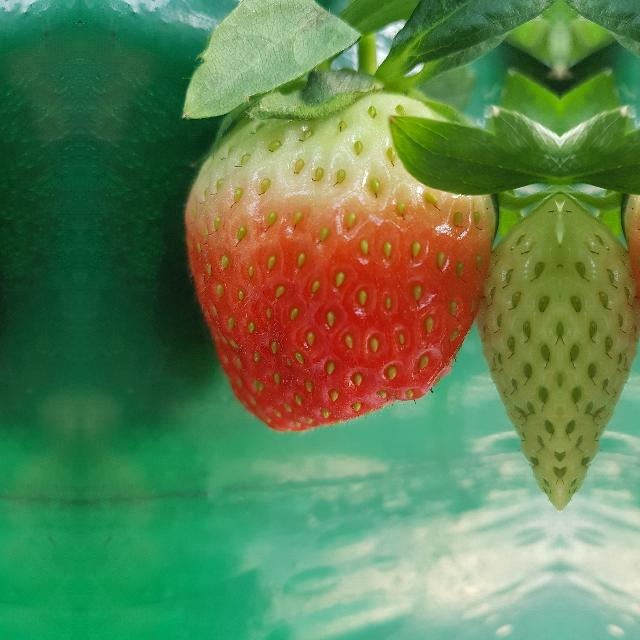Health_75: (182, 88, 498, 434)
